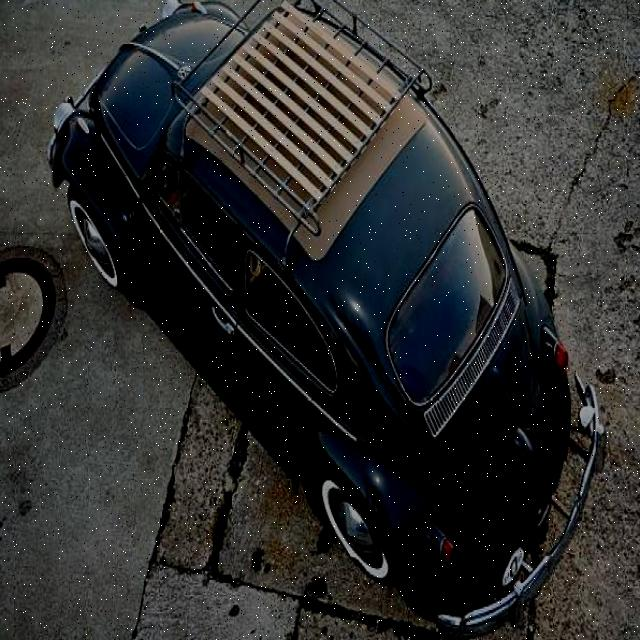car: (55, 1, 575, 605)
